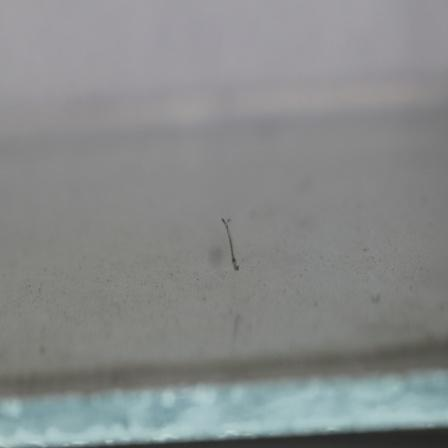Jentik-Nyamuk: (218, 213, 248, 278)
